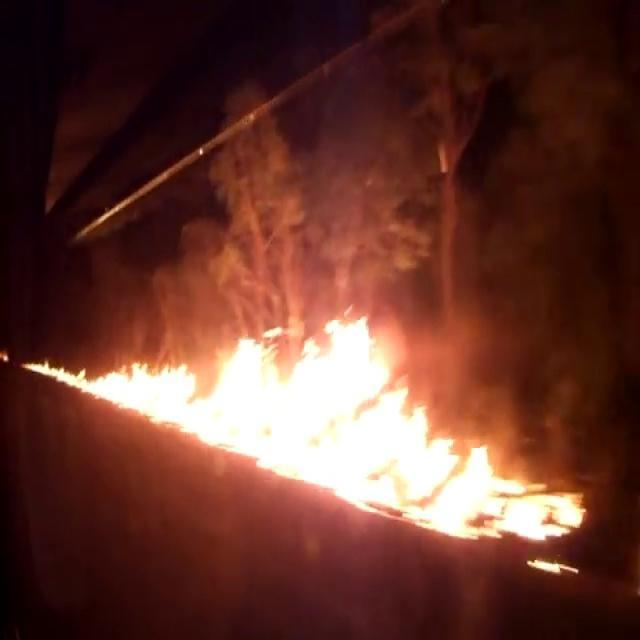Fire: (21, 302, 589, 574)
